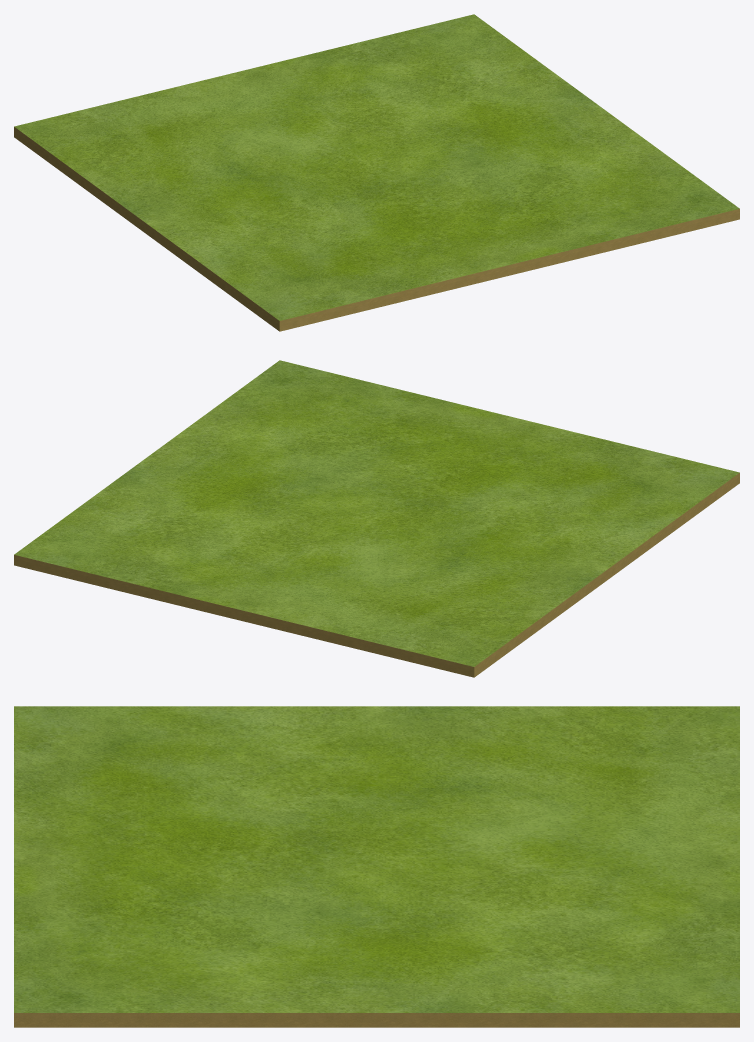
Rendered from Grass lawn.glb.
3 views of the same model, one above another, from view 1: azimuth 30°, elevation 25°; view 2: azimuth 150°, elevation 25°; view 3: azimuth 270°, elevation 25° (orthographic). The views are drawn at different scales.
Visible parts, largest first — view 1: diorama_2.1; view 2: diorama_2.1; view 3: diorama_2.1.
Boxes of the visible parts, x1,y1,x2,y2 form: diorama_2.1: [14, 14, 739, 331]; diorama_2.1: [14, 360, 739, 677]; diorama_2.1: [14, 706, 739, 1027].
Size of the model in its own units: 0.02 by 0.000443 by 0.02.
2 materials, 2 textured.
